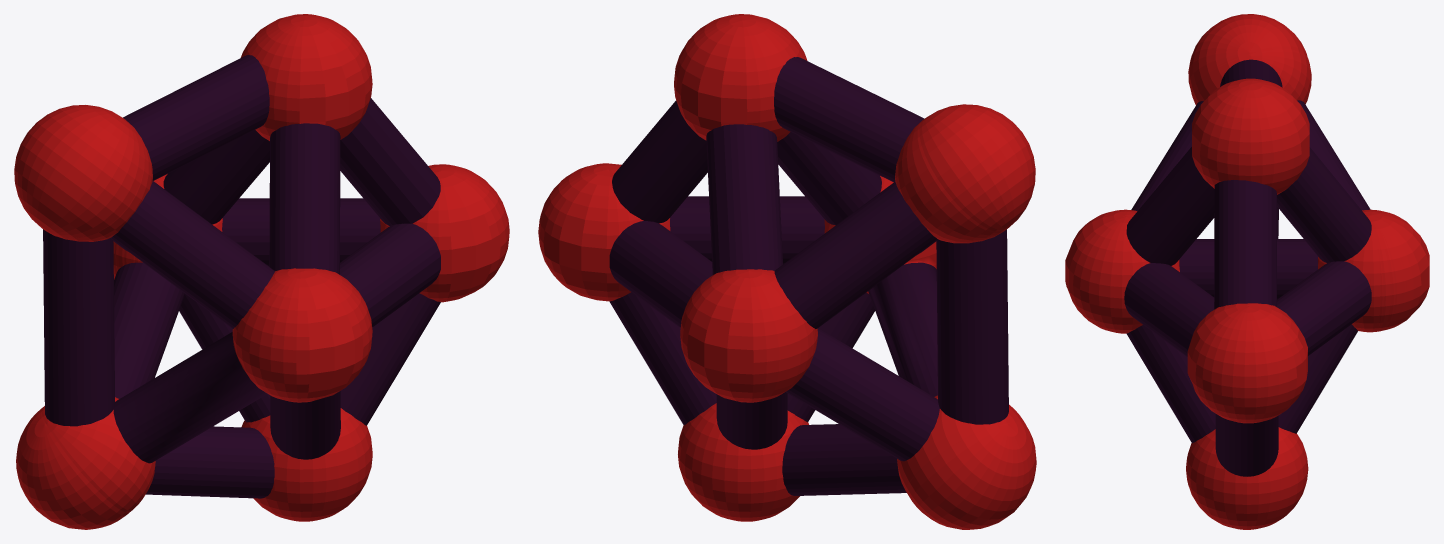
Rendered from 3Dvertex7.fbx.
The picture shows the model from 3 angles, left to right: view 1: azimuth 30°, elevation 25°; view 2: azimuth 150°, elevation 25°; view 3: azimuth 270°, elevation 25°; orthographic projection. The views are drawn at different scales.
Visible parts, largest first — view 1: Cylinder.001; view 2: Cylinder.001; view 3: Cylinder.001.
Boxes of the visible parts, x1,y1,x2,y2 form: Cylinder.001: (14, 14, 509, 529); Cylinder.001: (538, 14, 1036, 529); Cylinder.001: (1065, 14, 1429, 529).
Size of the model in its own units: 803 by 794 by 594.
